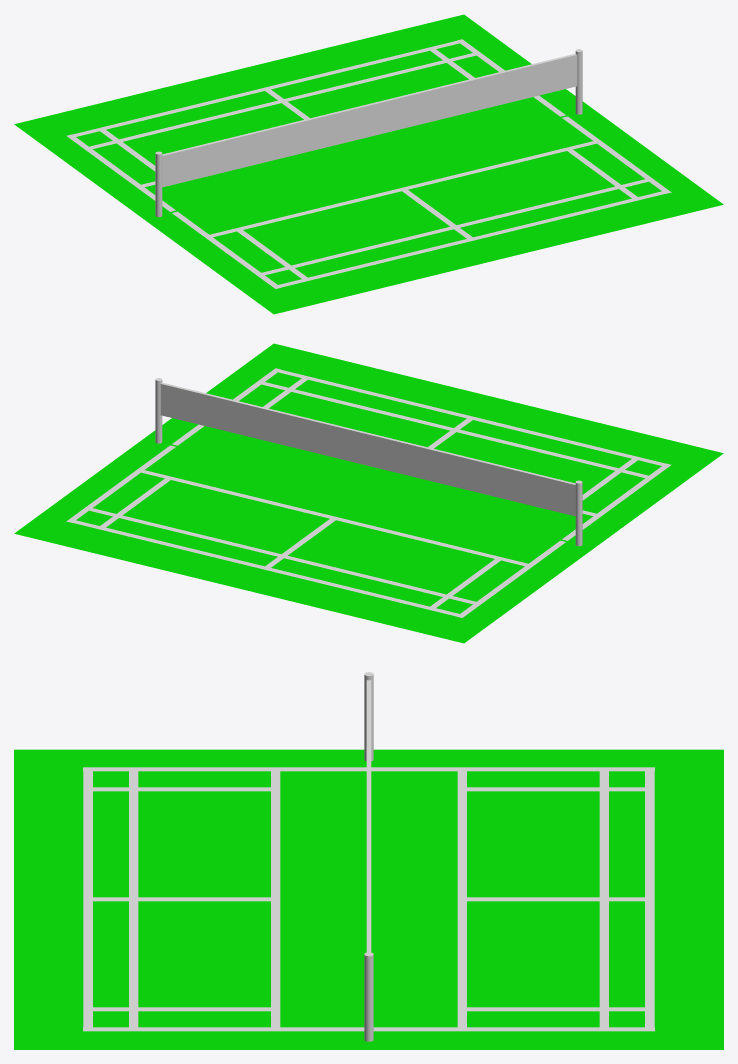
The model's file is court.fbx.
The picture shows the model from 3 angles, top to bottom: view 1: azimuth 30°, elevation 25°; view 2: azimuth 150°, elevation 25°; view 3: azimuth 270°, elevation 25°; orthographic projection. The views are drawn at different scales.
Visible parts, largest first — view 1: 平面.001, 平面.002, 立方体.010; view 2: 平面.002, 平面.001, 立方体.010; view 3: 平面.001, 平面.002, 立方体.010.
Part boxes in pixels (x1,y1,x2,y2): 平面.001: (144,109,723,314); 平面.002: (14,14,593,219); 立方体.010: (155,49,582,217); 平面.002: (14,438,593,643); 平面.001: (144,343,723,548); 立方体.010: (155,378,582,546); 平面.001: (14,749,368,1049); 平面.002: (369,749,723,1049); 立方体.010: (364,672,373,1041).
Bounding box in the file's own units: 1500 × 200 × 1500.
